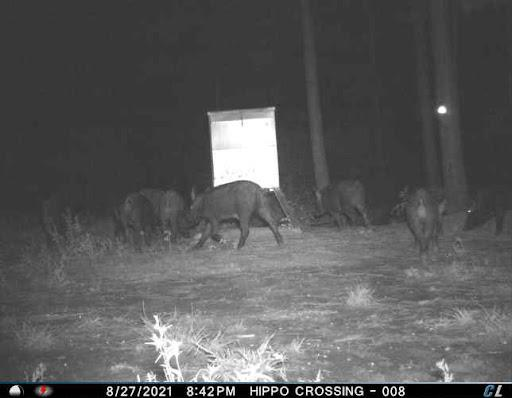Hog: (183, 182, 288, 257), (307, 176, 374, 232), (118, 191, 159, 255), (403, 191, 440, 252), (464, 194, 512, 239), (156, 184, 187, 252)
